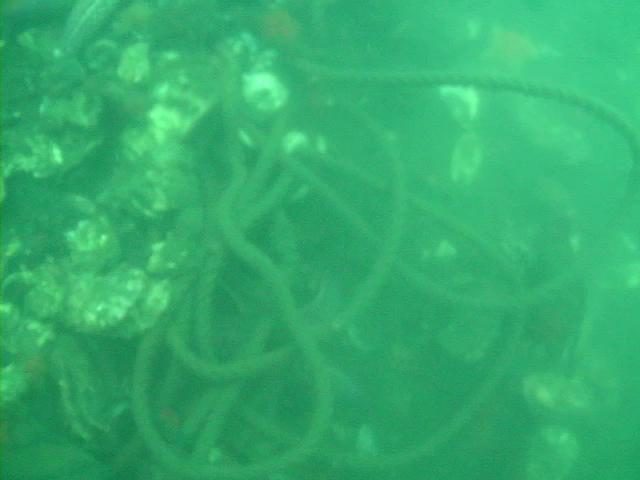bundle of ropes: (131, 54, 640, 480)
